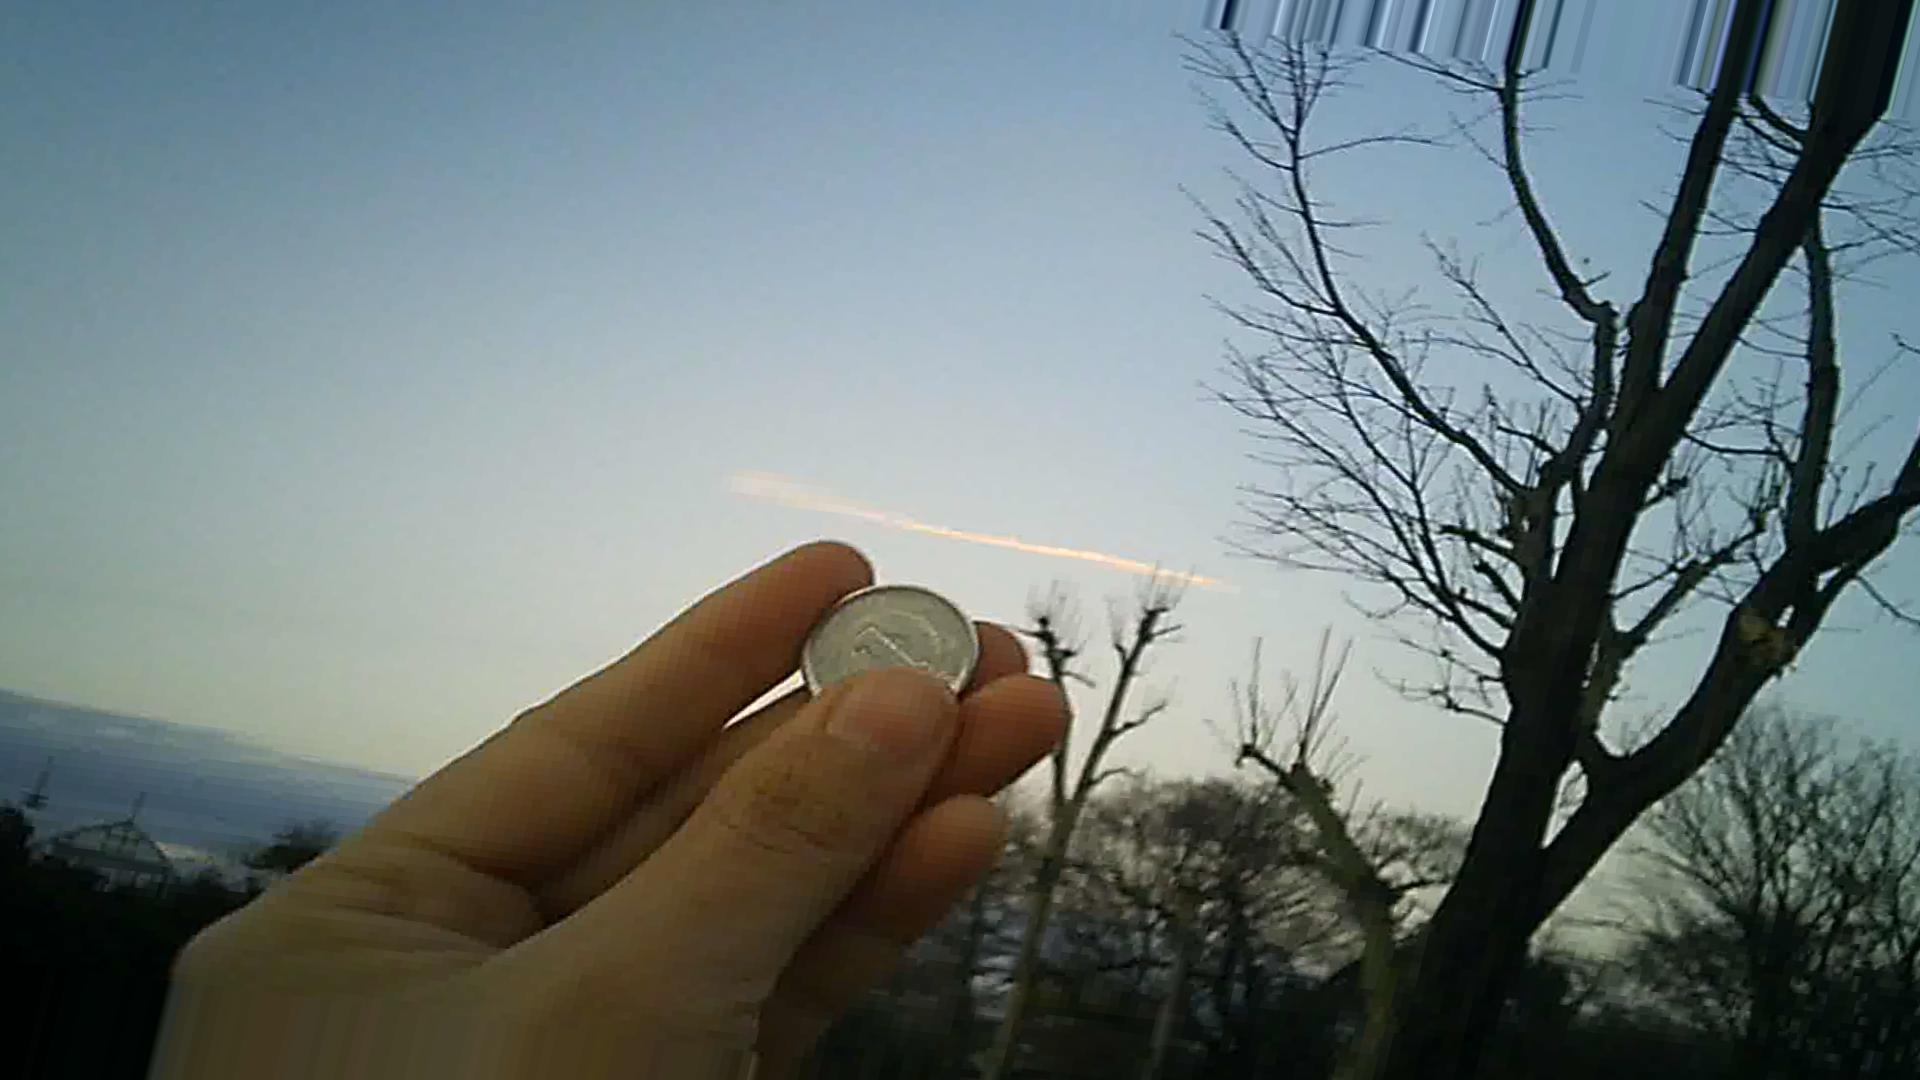1 Yen: (793, 564, 978, 707)
